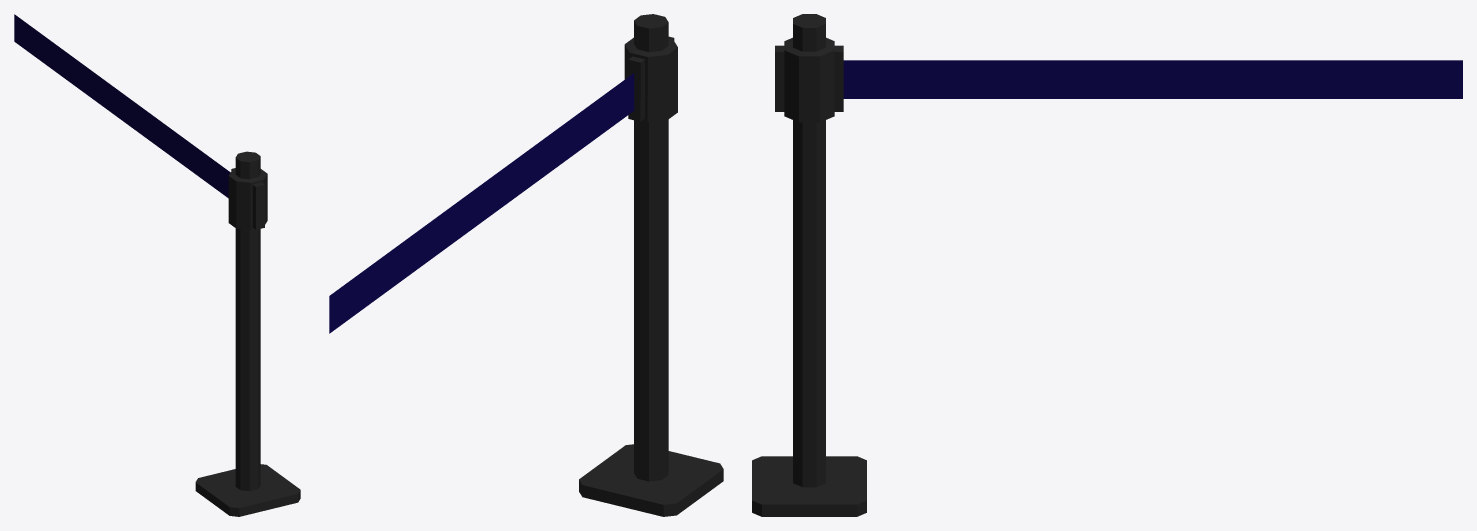
Rendered from barrier 1 set.fbx.
3 views of the same model, side by side, from view 1: azimuth 30°, elevation 25°; view 2: azimuth 150°, elevation 25°; view 3: azimuth 270°, elevation 25° (orthographic). The views are drawn at different scales.
Parts seen in each view (by area): view 1: barrier pole.003, barrier rope.002; view 2: barrier pole.003, barrier rope.002; view 3: barrier rope.002, barrier pole.003.
Part boxes in pixels (x1,y1,x2,y2): barrier pole.003: (195,151,300,516); barrier rope.002: (14,14,230,198); barrier pole.003: (579,14,723,516); barrier rope.002: (329,73,634,333); barrier rope.002: (843,60,1462,98); barrier pole.003: (752,14,866,516).
Size of the model in its own units: 52.74 by 239 by 327.
